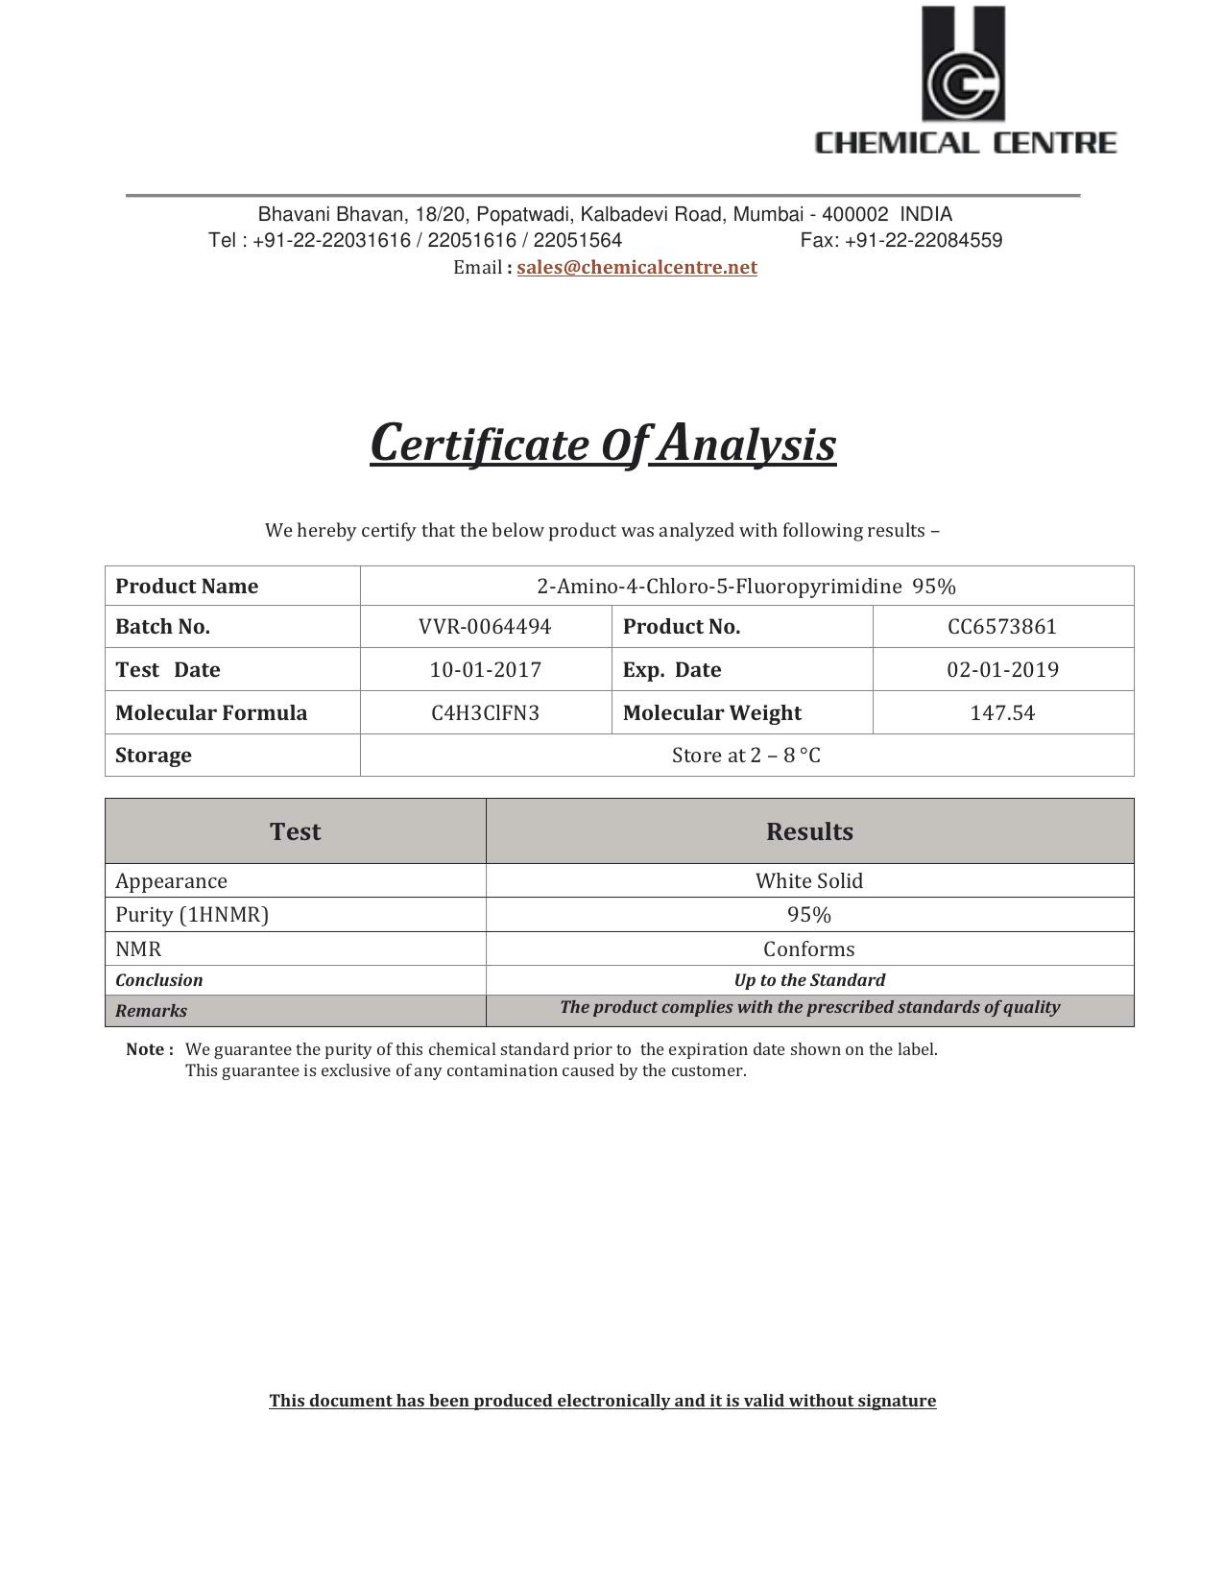full_lined: (102, 796, 1137, 1028)
merged_cells: (103, 564, 1135, 776)
